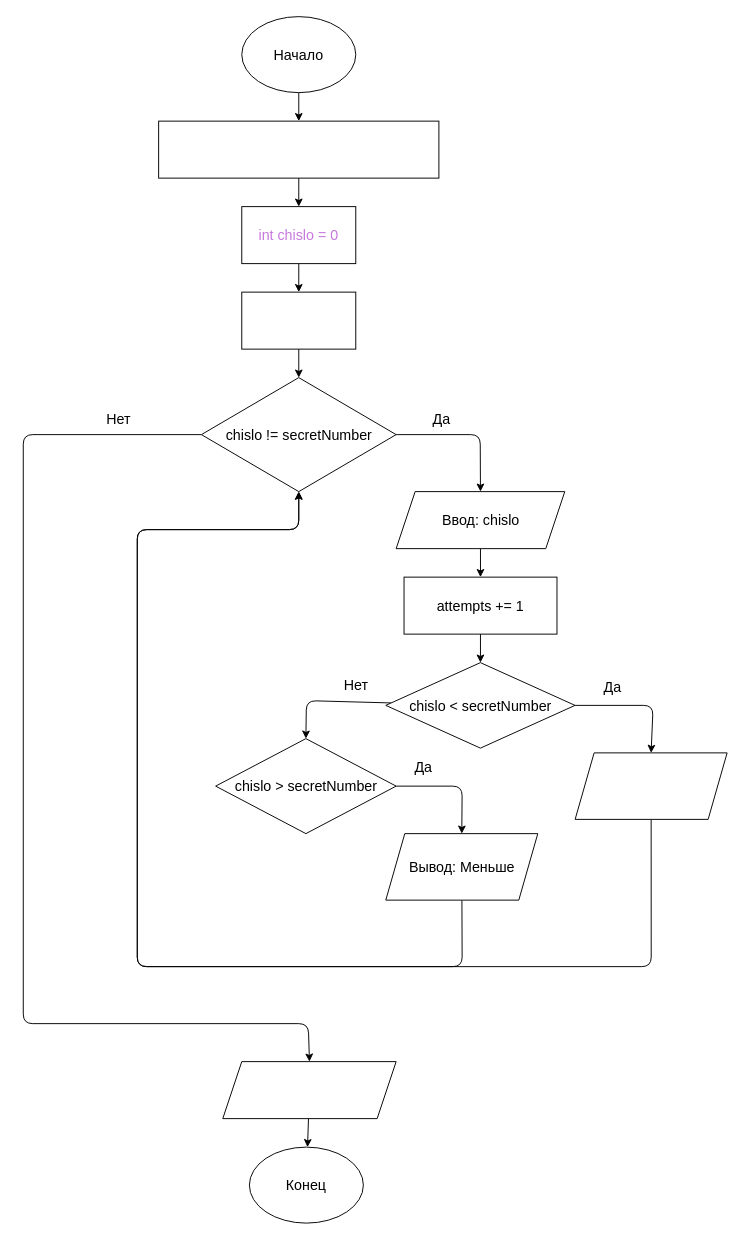
This 744x1240 diagram has some shape labels left out. Each missing label, with the centre of its shape:
"int attempts = 0" belongs at point (298, 320).
"secretNumber = rand.Next(1, 101)" belongs at point (298, 149).
"Вывод: Больше" belongs at point (650, 785).
"Вывод: Поздравляю, chislo, attempts" belongs at point (309, 1090).
